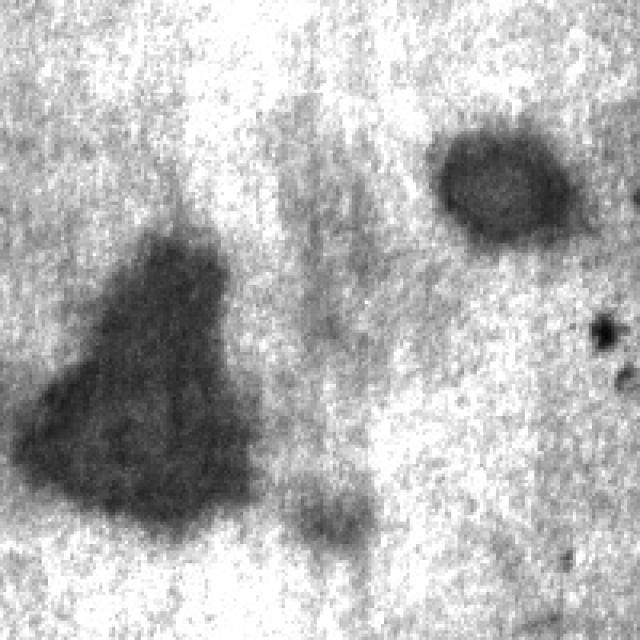patches: (10, 224, 246, 531), (429, 122, 576, 240)
